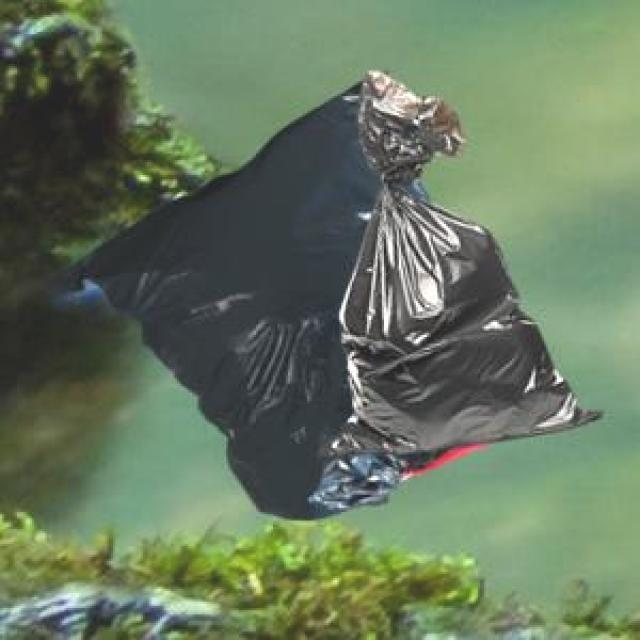Trashbag: (322, 71, 601, 471)
